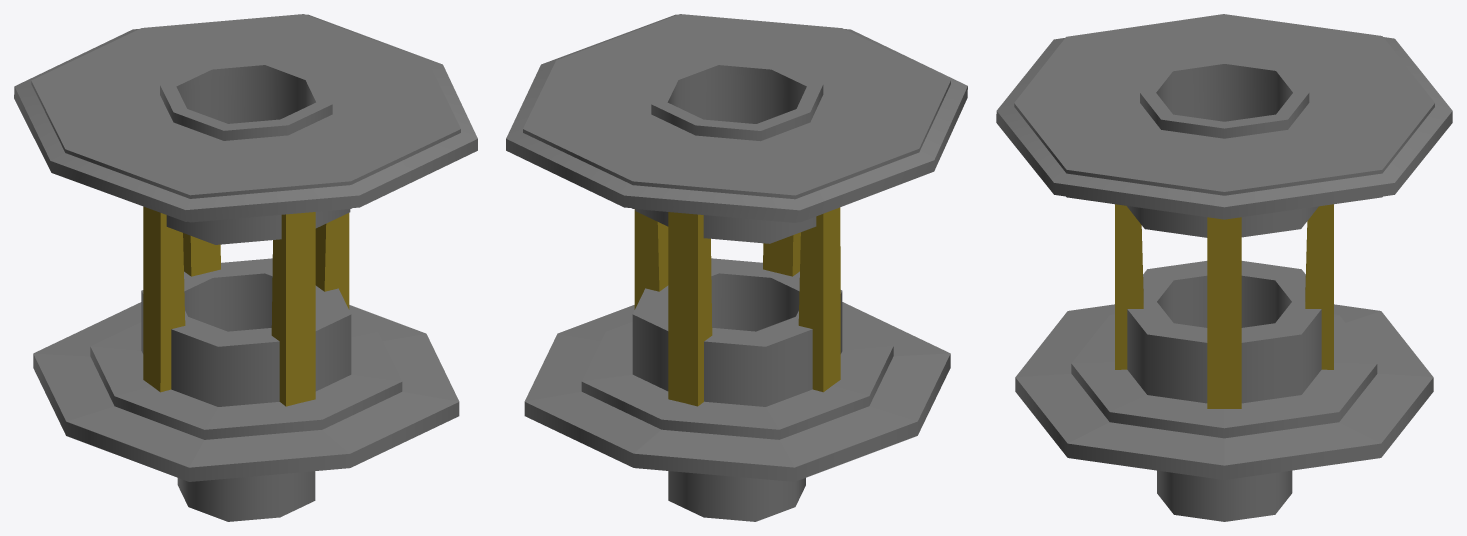
File: Altar.FBX
3 views of the same model, side by side, from view 1: azimuth 30°, elevation 25°; view 2: azimuth 150°, elevation 25°; view 3: azimuth 270°, elevation 25° (orthographic).
Parts seen in each view (by area): view 1: Altar001; view 2: Altar001; view 3: Altar001.
Boxes of the visible parts, left/top/right/bottom form: Altar001: left=14, top=14, right=477, bottom=521; Altar001: left=506, top=14, right=967, bottom=521; Altar001: left=996, top=14, right=1452, bottom=521.
Bounding box in the file's own units: 31.34 × 30.36 × 31.36.
1 material, 1 textured.
